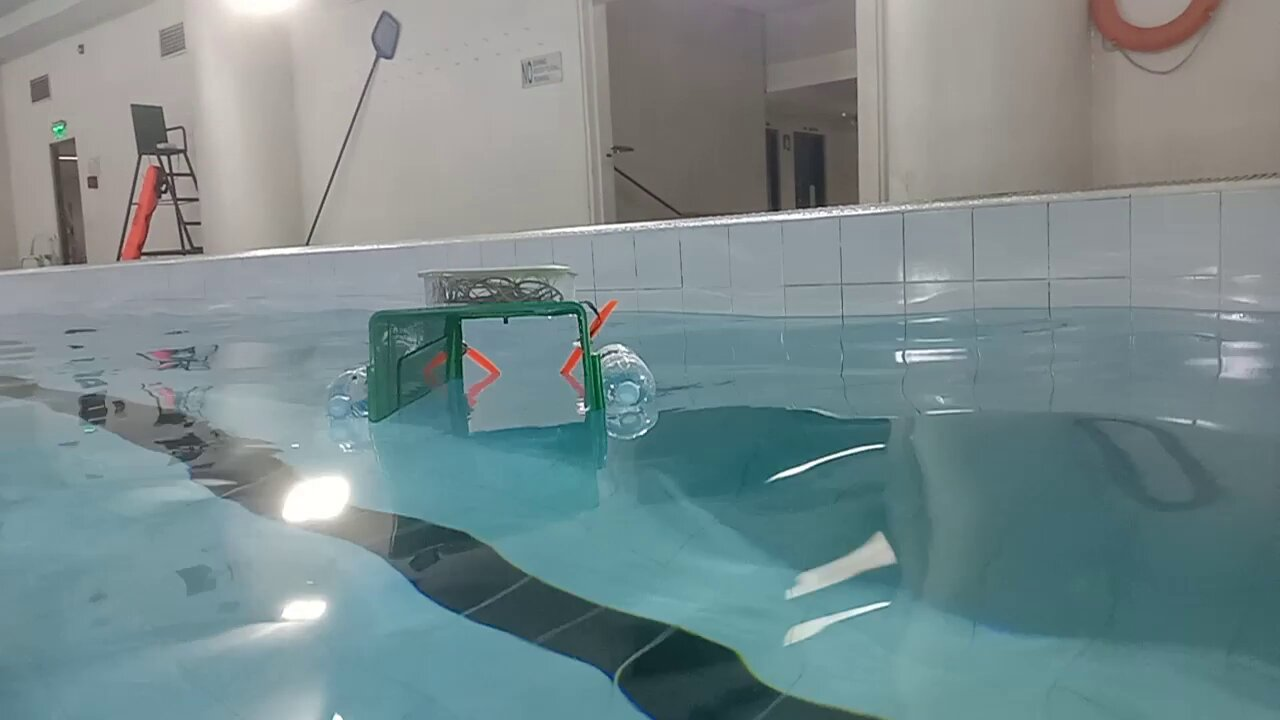drone: (323, 266, 658, 440)
